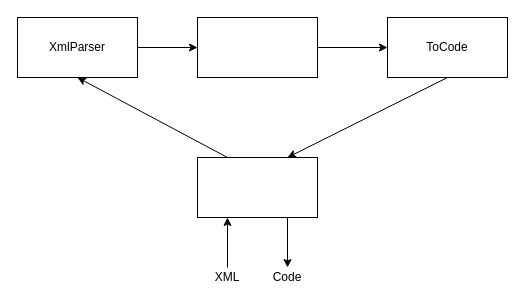
Some shapes in this 525 by 305 pixel diagram are drawn without their labels. Each missing label, with the centre of its shape:
"CLI" goes at (257,187).
"DataClasses" goes at (257,47).
